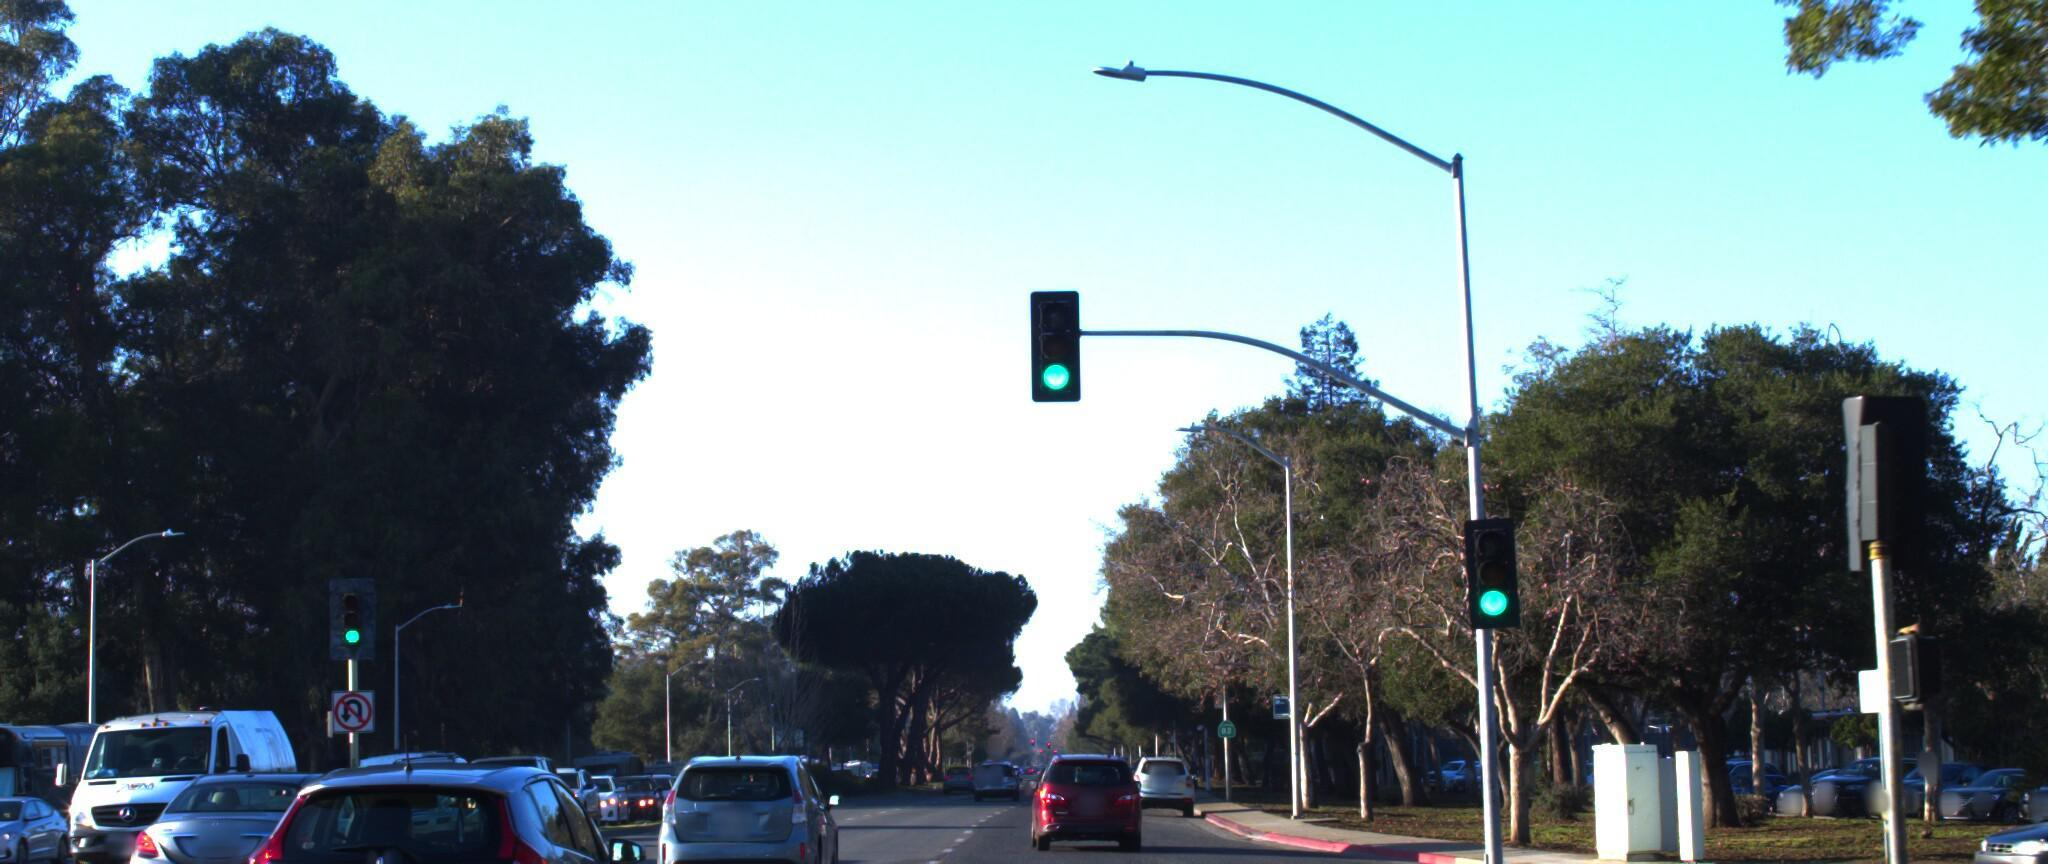bus: (0, 703, 148, 863)
car: (206, 749, 650, 864), (125, 756, 421, 864), (650, 733, 839, 864), (1929, 748, 2048, 864), (1024, 741, 1136, 838), (0, 780, 76, 864), (1114, 733, 1187, 801)
other_vehicle: (37, 687, 303, 864)
